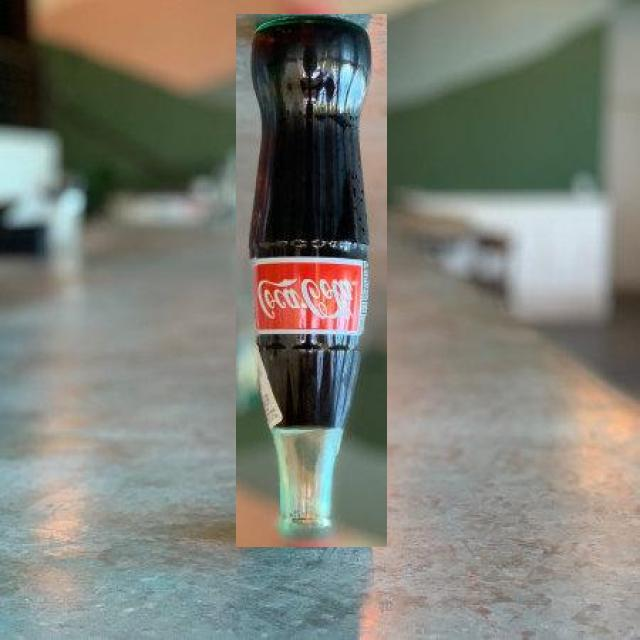coca-cola: (236, 14, 387, 547)
